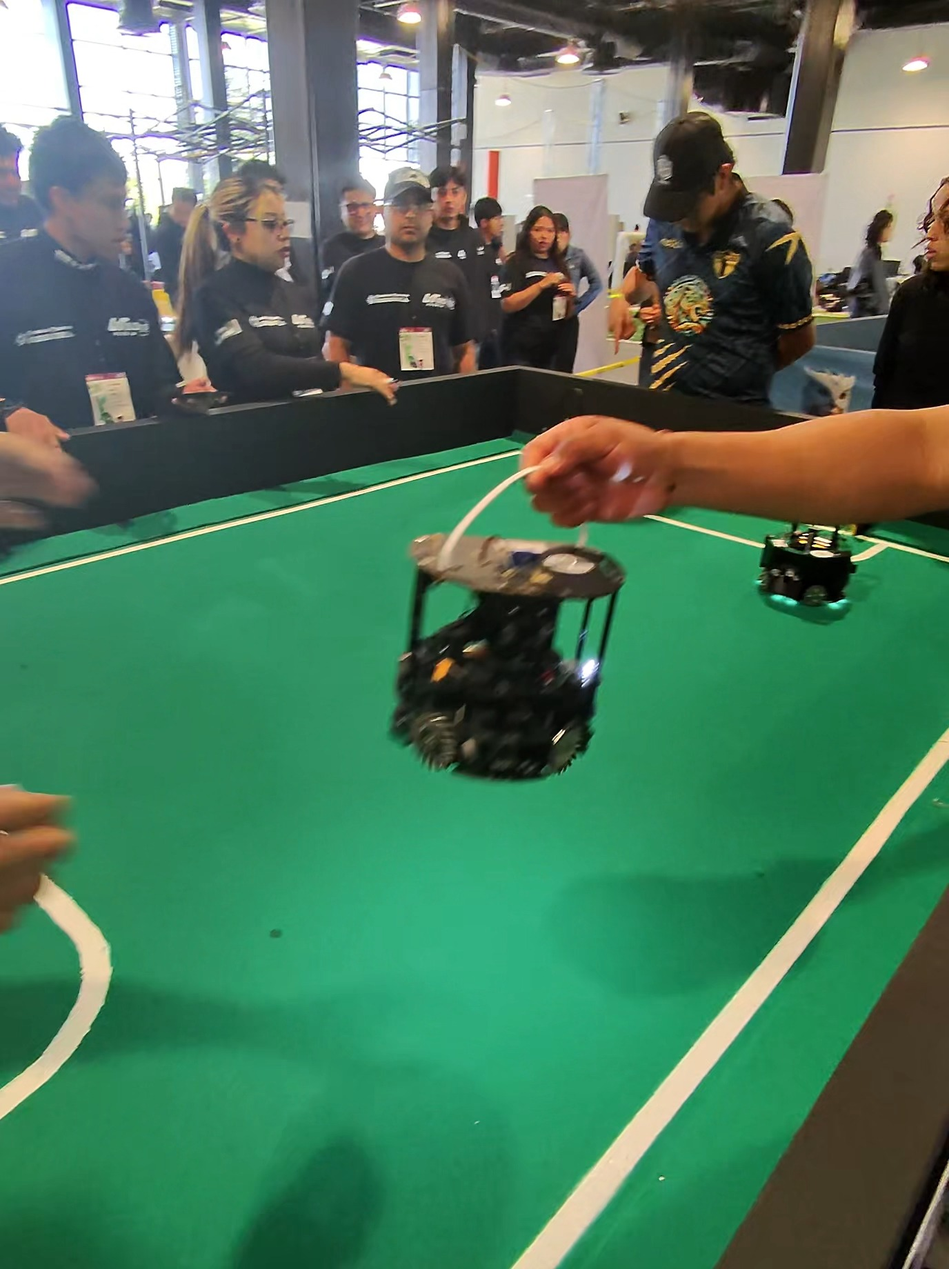Robot: (382, 499, 627, 824), (738, 515, 884, 622)
